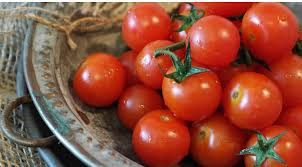tomate: (101, 17, 292, 161)
